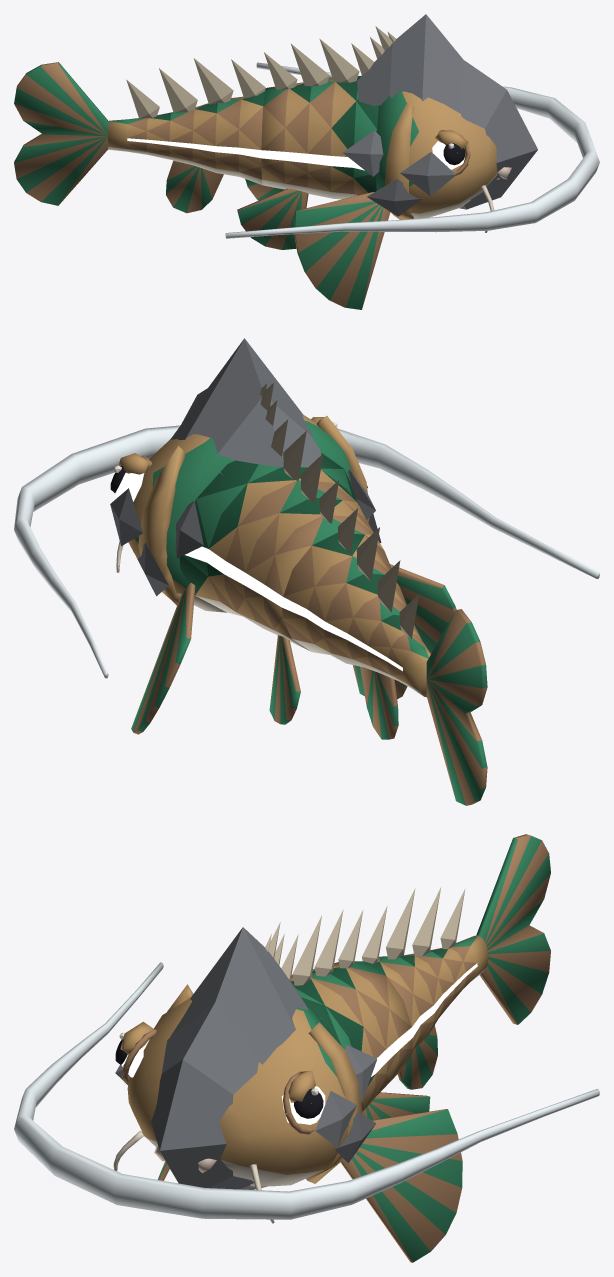
File: carp-cutwater.glb
3 renders of one model, top to bottom at view 1: azimuth 30°, elevation 25°; view 2: azimuth 150°, elevation 25°; view 3: azimuth 270°, elevation 25°, orthographic. The views are drawn at different scales.
Parts seen in each view (by area): view 1: carp_head, wag_body_0, wag_body_1, wag_body_2, wake, glide_fin_r, pulse_gill_r, blink_eye_r; view 2: wag_body_0, carp_head, wag_body_1, wake, wag_body_2, glide_fin_l, pulse_gill_l, glide_fin_r, pulse_gill_r, blink_eye_l; view 3: carp_head, wake, wag_body_0, glide_fin_l, wag_body_1, wag_body_2, pulse_gill_l, blink_eye_l.
Part boxes in pixels (box(x1,y1,x2,y2)): carp_head: box(343, 14, 537, 218); wag_body_0: box(237, 38, 378, 249); wag_body_1: box(108, 58, 266, 213); wag_body_2: box(14, 62, 108, 205); wake: box(225, 62, 599, 238); glide_fin_r: box(294, 192, 390, 309); pulse_gill_r: box(385, 102, 413, 219); blink_eye_r: box(432, 141, 465, 169); wag_body_0: box(179, 419, 407, 724); carp_head: box(110, 338, 381, 612); wag_body_1: box(282, 508, 430, 739); wake: box(14, 425, 599, 678); wag_body_2: box(426, 609, 487, 805); glide_fin_l: box(131, 582, 195, 734); pulse_gill_l: box(138, 446, 185, 605); glide_fin_r: box(390, 564, 456, 653); pulse_gill_r: box(316, 416, 369, 522); blink_eye_l: box(110, 465, 144, 501); carp_head: box(115, 922, 377, 1189); wake: box(14, 962, 599, 1219); wag_body_0: box(281, 909, 430, 1120); glide_fin_l: box(340, 1109, 462, 1262); wag_body_1: box(362, 887, 488, 1089); wag_body_2: box(476, 834, 550, 1024); pulse_gill_l: box(306, 1022, 362, 1183); blink_eye_l: box(281, 1086, 325, 1124).
Size of the model in its own units: 0.8688 by 0.4624 by 0.7548.
